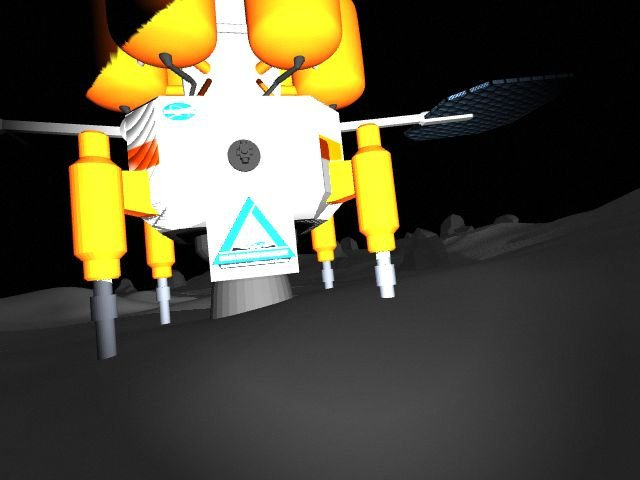basemarker: (213, 196, 298, 268)
